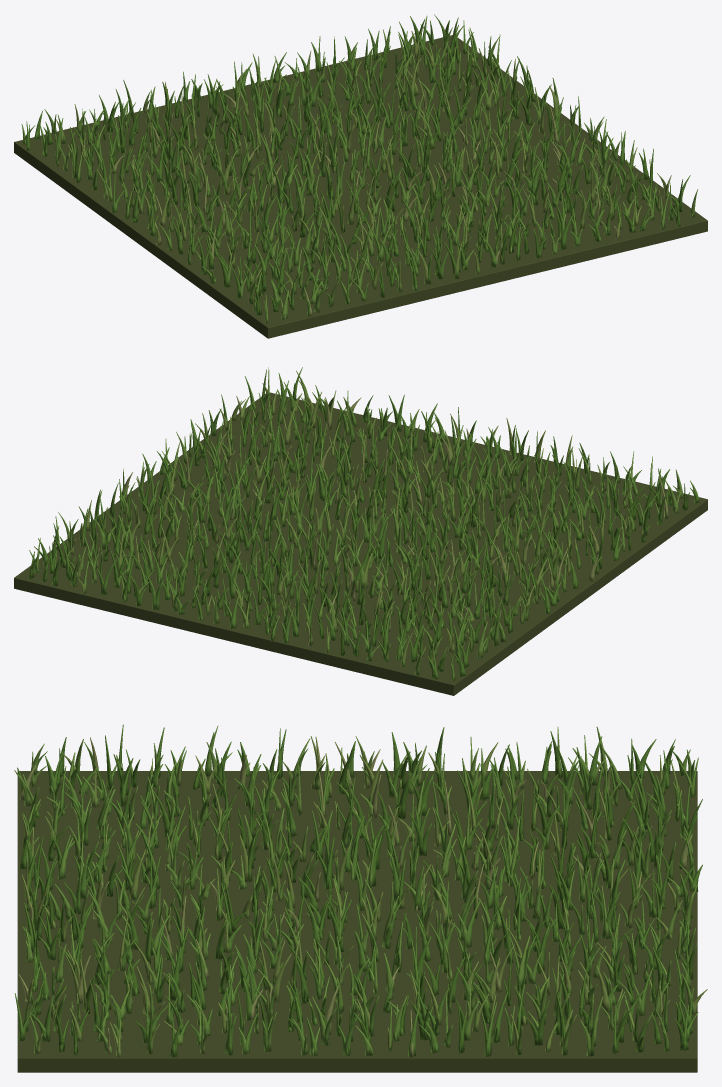
The model's file is living-turf.glb.
3 renders of one model, top to bottom at view 1: azimuth 30°, elevation 25°; view 2: azimuth 150°, elevation 25°; view 3: azimuth 270°, elevation 25°, orthographic. The views are drawn at different scales.
Visible parts, largest first — view 1: root-mat, blade-cluster-0-3, blade-cluster-2-1, blade-cluster-0-1, blade-cluster-1-3, blade-cluster-0-2, blade-cluster-3-3, blade-cluster-3-0, blade-cluster-3-2, blade-cluster-1-2, blade-cluster-2-3, blade-cluster-3-1 (+5 smaller); view 2: root-mat, blade-cluster-3-0, blade-cluster-0-1, blade-cluster-0-0, blade-cluster-2-1, blade-cluster-1-0, blade-cluster-1-2, blade-cluster-2-0, blade-cluster-3-2, blade-cluster-1-3, blade-cluster-1-1, blade-cluster-3-1 (+5 smaller); view 3: root-mat, blade-cluster-3-1, blade-cluster-3-0, blade-cluster-3-2, blade-cluster-0-1, blade-cluster-3-3, blade-cluster-1-0, blade-cluster-0-0, blade-cluster-1-3, blade-cluster-1-1, blade-cluster-2-0, blade-cluster-1-2 (+5 smaller).
Boxes of the visible parts, x1,y1,x2,y2 form: root-mat: (14, 35, 707, 338); blade-cluster-0-3: (201, 230, 368, 323); blade-cluster-2-1: (305, 74, 457, 174); blade-cluster-0-1: (92, 129, 250, 229); blade-cluster-1-3: (326, 197, 479, 297); blade-cluster-0-2: (150, 176, 314, 274); blade-cluster-3-3: (540, 148, 697, 241); blade-cluster-3-0: (344, 14, 500, 99); blade-cluster-3-2: (480, 96, 637, 195); blade-cluster-1-2: (260, 156, 417, 251); blade-cluster-2-3: (442, 174, 582, 267); blade-cluster-3-1: (404, 56, 578, 148); root-mat: (14, 392, 707, 695); blade-cluster-3-0: (29, 508, 178, 602); blade-cluster-0-1: (412, 536, 567, 633); blade-cluster-0-0: (347, 586, 506, 680); blade-cluster-2-1: (185, 487, 349, 581); blade-cluster-1-0: (237, 551, 394, 655); blade-cluster-1-2: (372, 471, 528, 560); blade-cluster-2-0: (130, 533, 290, 628); blade-cluster-3-2: (142, 413, 308, 508); blade-cluster-1-3: (421, 418, 589, 512); blade-cluster-1-1: (303, 507, 466, 605); blade-cluster-3-1: (78, 458, 245, 554); root-mat: (17, 771, 697, 1072); blade-cluster-3-1: (353, 936, 529, 1057); blade-cluster-3-0: (525, 946, 707, 1056); blade-cluster-3-2: (186, 937, 369, 1055); blade-cluster-0-1: (349, 727, 525, 841); blade-cluster-3-3: (14, 939, 188, 1057); blade-cluster-1-0: (519, 799, 702, 912); blade-cluster-0-0: (527, 726, 698, 840); blade-cluster-1-3: (19, 801, 193, 914); blade-cluster-1-1: (355, 803, 531, 911); blade-cluster-2-0: (516, 870, 696, 986); blade-cluster-1-2: (178, 802, 364, 911).
Bounding box in the file's own units: 1.02 × 0.103 × 1.02.
